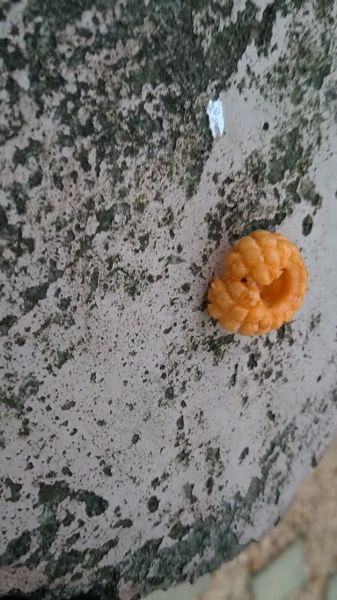eggs: (199, 228, 314, 339)
